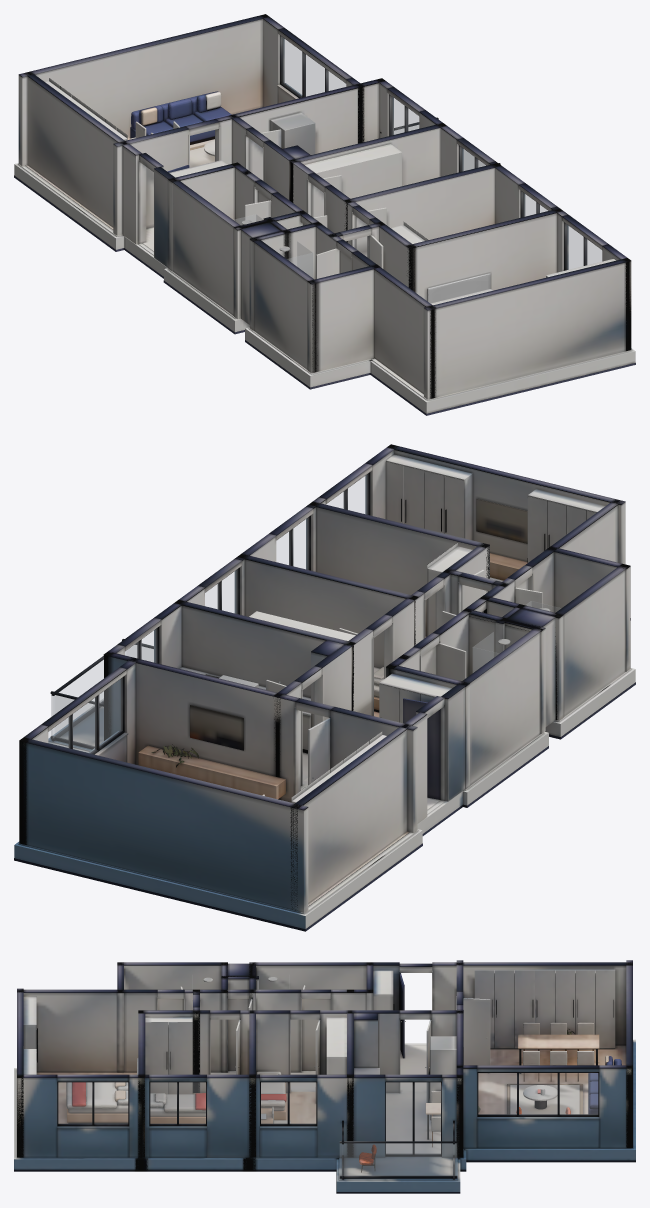
The picture shows the model from 3 angles, top to bottom: view 1: azimuth 30°, elevation 25°; view 2: azimuth 150°, elevation 25°; view 3: azimuth 270°, elevation 25°; orthographic projection. The views are drawn at different scales.
Visible parts, largest first — view 1: plan, glass0_m, glass4_m, glass1_m; view 2: plan, glass0_m, railg0_m, glass3_m, railg4_m, glass2_m, glass4_m; view 3: plan, glass0_m, railg4_m, glass1_m, glass4_m, glass3_m, glass2_m.
Boxes of the visible parts, bbox=[...] form: plan: bbox=[14, 14, 635, 415]; glass0_m: bbox=[282, 37, 345, 96]; glass4_m: bbox=[566, 224, 601, 269]; glass1_m: bbox=[391, 96, 418, 134]; plan: bbox=[14, 444, 635, 931]; glass0_m: bbox=[48, 678, 122, 753]; railg0_m: bbox=[51, 694, 103, 746]; glass3_m: bbox=[276, 517, 308, 569]; railg4_m: bbox=[53, 651, 125, 737]; glass2_m: bbox=[205, 569, 237, 613]; glass4_m: bbox=[326, 474, 367, 514]; plan: bbox=[14, 960, 635, 1193]; glass0_m: bbox=[478, 1073, 597, 1114]; railg4_m: bbox=[340, 1143, 456, 1175]; glass1_m: bbox=[386, 1082, 440, 1153]; glass4_m: bbox=[58, 1082, 127, 1123]; glass3_m: bbox=[150, 1082, 205, 1123]; glass2_m: bbox=[261, 1082, 315, 1123].
Size of the model in its own units: 8.62 by 2.62 by 15.94.
Materials: 2 (1 with a texture image).
